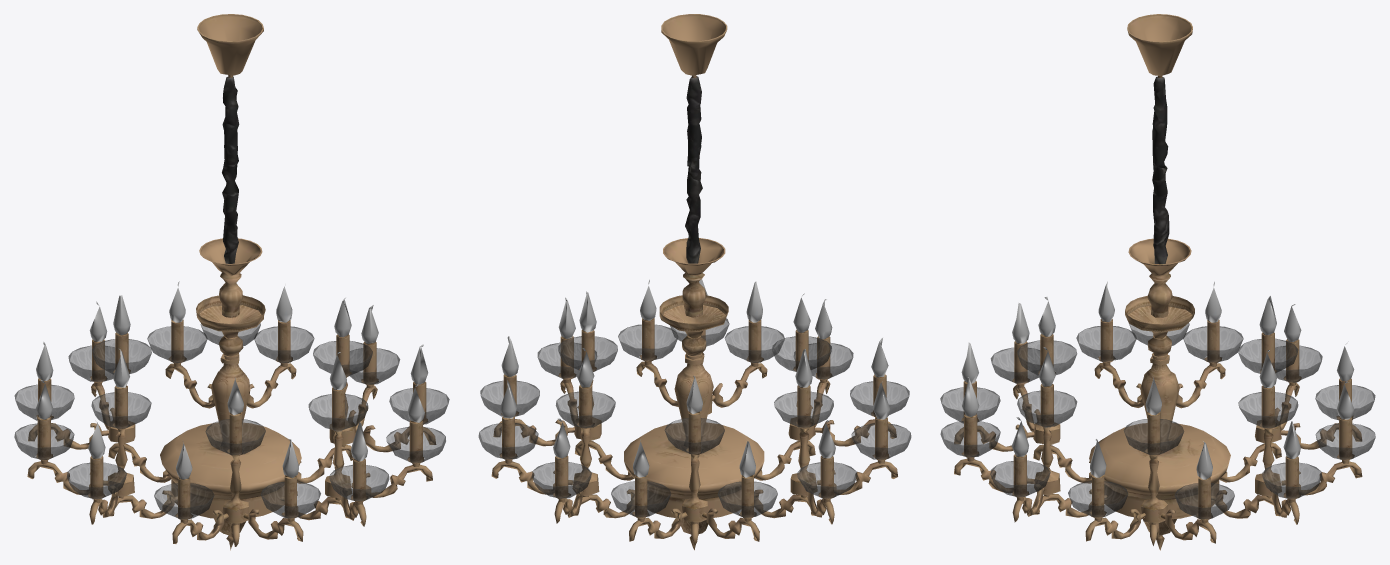
File: Chandelier_03.21727593.glb
The picture shows the model from 3 angles, left to right: view 1: azimuth 30°, elevation 25°; view 2: azimuth 150°, elevation 25°; view 3: azimuth 270°, elevation 25°; orthographic projection.
Parts seen in each view (by area): view 1: Chandelier_03; view 2: Chandelier_03; view 3: Chandelier_03.
Boxes of the visible parts, x1,y1,x2,y2 form: Chandelier_03: [14, 14, 449, 550]; Chandelier_03: [478, 14, 911, 550]; Chandelier_03: [940, 14, 1375, 550].
Size of the model in its own units: 0.7155 by 0.9541 by 0.72.
2 materials, 2 textured.
